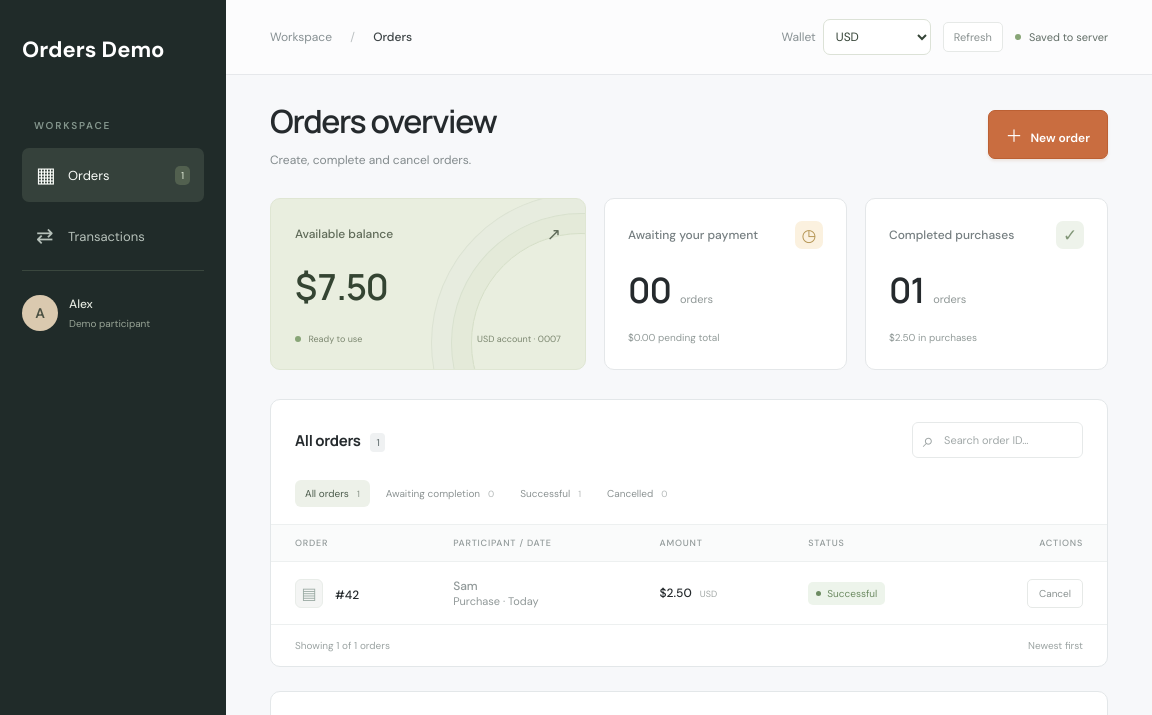
it: OrdersDashboard › cancels through the correct endpoint and shows the refund and reversal
Step 1. Click the button "Cancel" → (1055, 593), box [1027,579,1083,608]
(page scrolled)
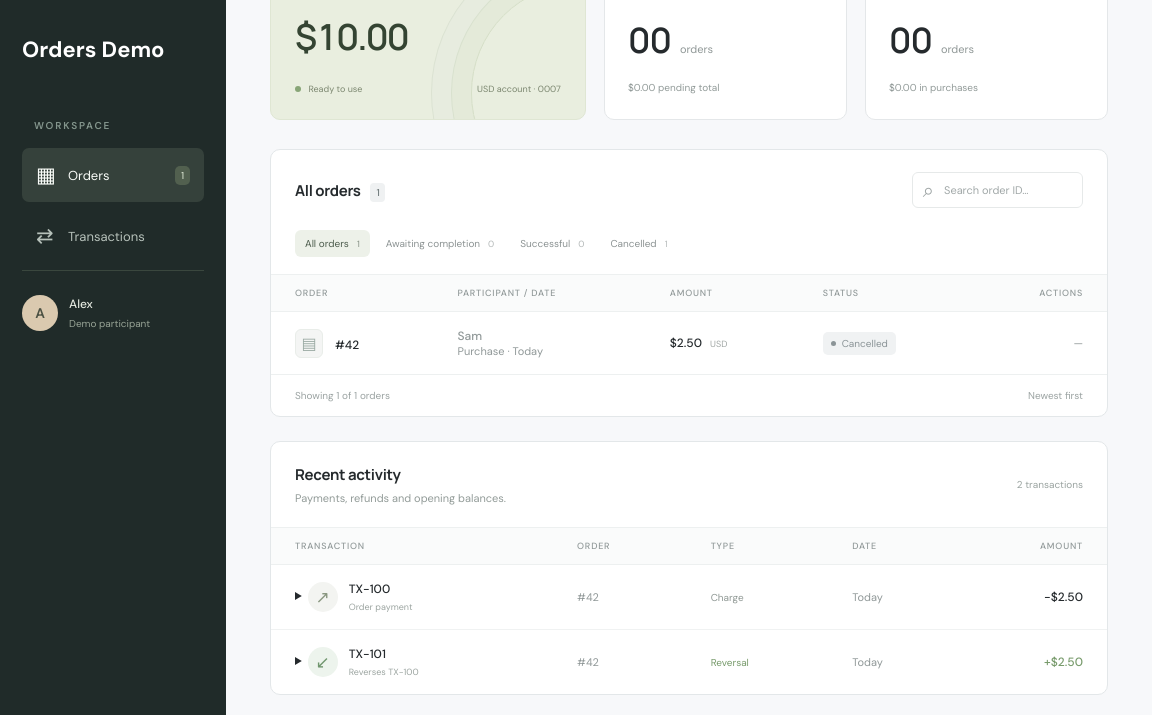
Now the text named "Balance" shows "10.00", box [295,12,408,61]
Now the row "#42" shows "cancelled", box [842,337,888,350]
Now the text "reversal" is shown, box [711,656,749,669]
